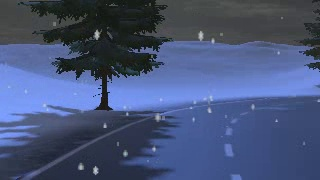Lane: (23, 97, 319, 179)
